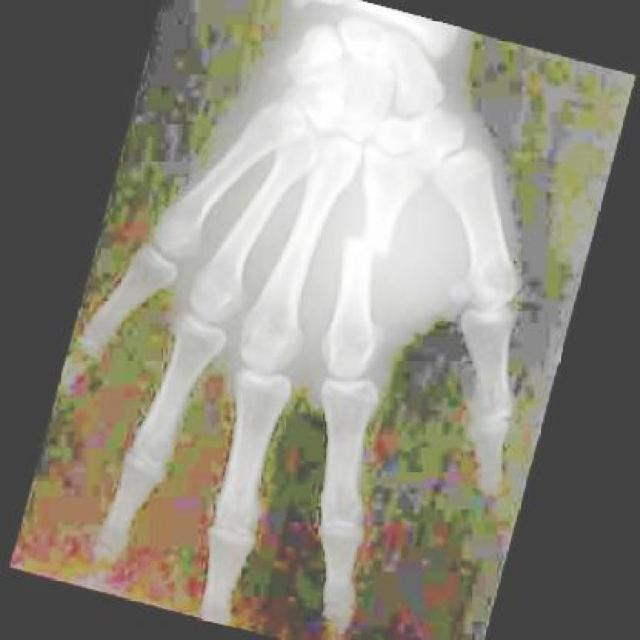Fracture: (334, 222, 407, 279)
